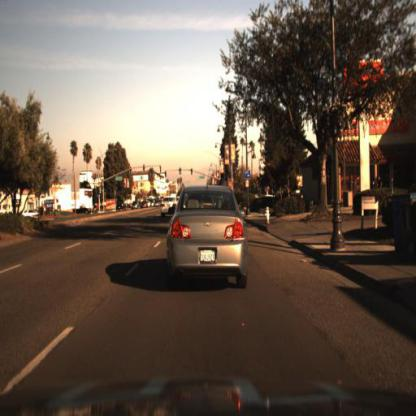car: (168, 186, 247, 289), (158, 191, 177, 225), (75, 203, 93, 217)
trafficLight: (178, 164, 186, 178), (189, 164, 196, 179)
